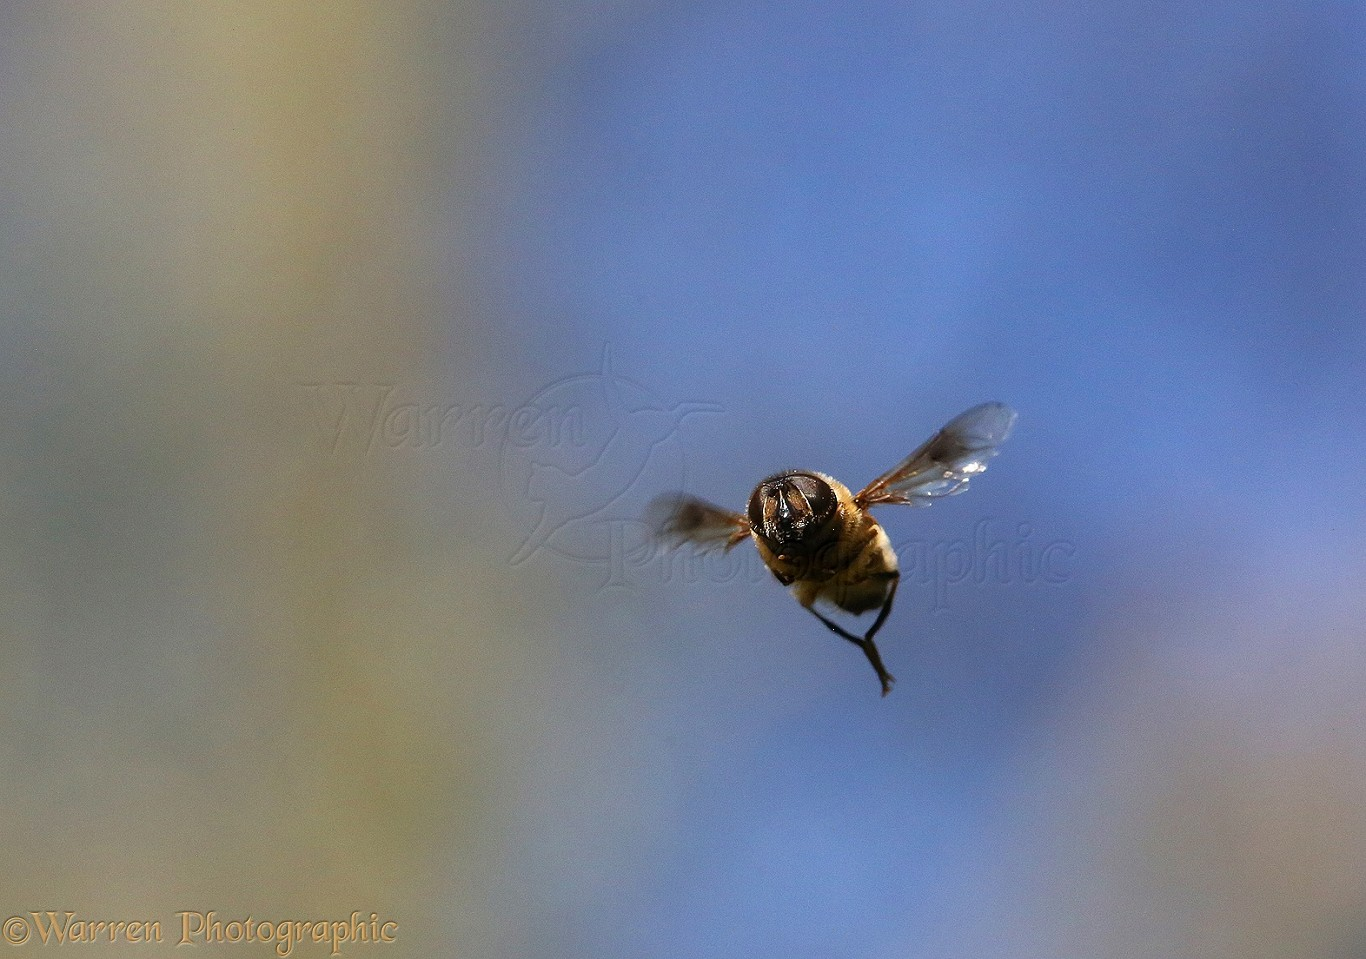insect: (648, 403, 1016, 693)
